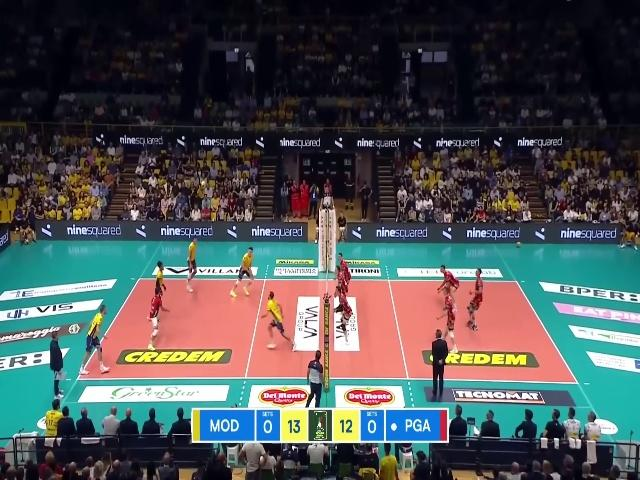volleyball court: (76, 276, 579, 382)
